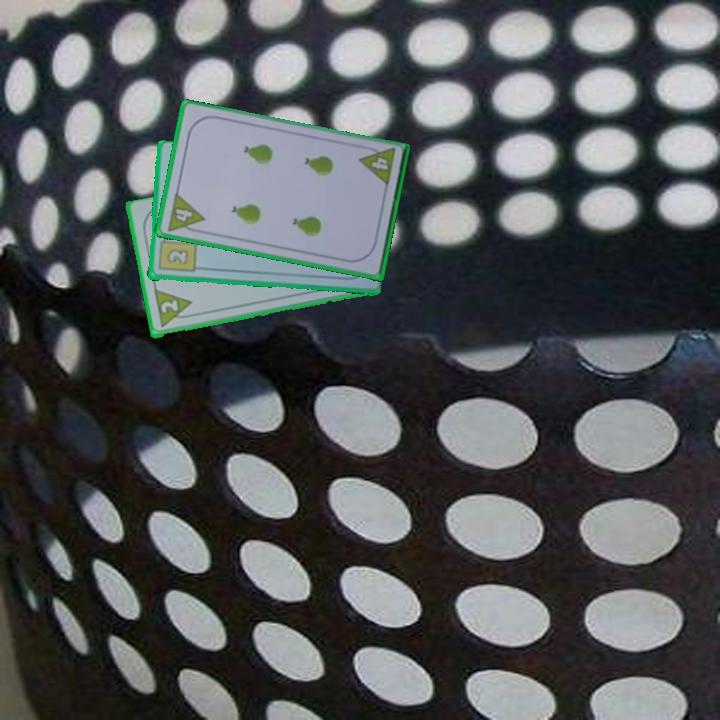2b: (155, 231, 198, 276)
2p: (157, 297, 181, 317)
4p: (164, 190, 207, 237), (356, 142, 398, 190)
